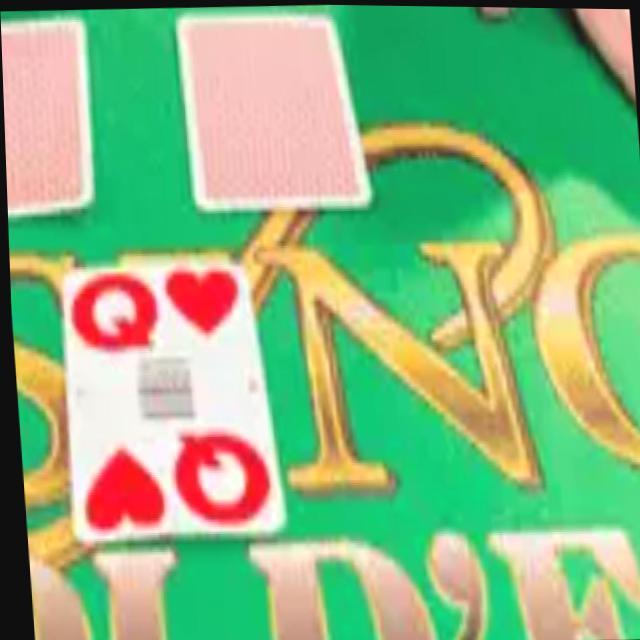Card-Q: (63, 263, 282, 536)
